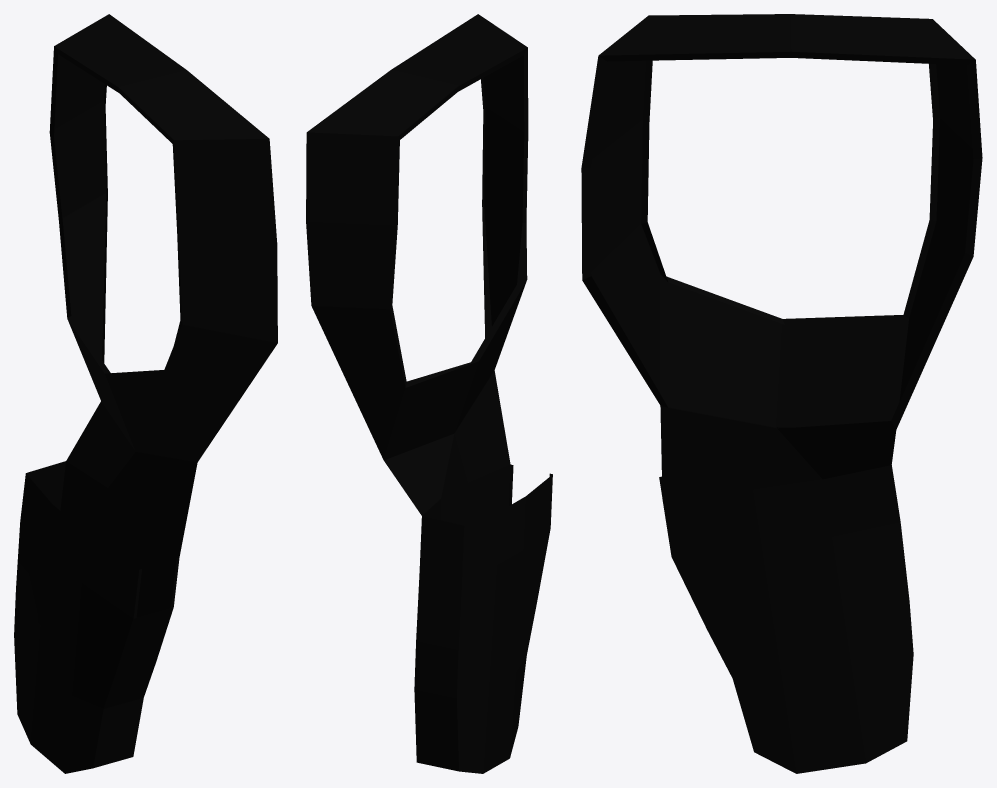
File: Weapon Holster Left Right.fbx
The picture shows the model from 3 angles, left to right: view 1: azimuth 30°, elevation 25°; view 2: azimuth 150°, elevation 25°; view 3: azimuth 270°, elevation 25°; orthographic projection. The views are drawn at different scales.
Visible parts, largest first — view 1: Dual Weapon Holster Right Arm.001; view 2: Dual Weapon Holster Right Arm.001; view 3: Dual Weapon Holster Right Arm.001.
Part boxes in pixels (bbox=[...]): Dual Weapon Holster Right Arm.001: bbox=[14, 14, 277, 773]; Dual Weapon Holster Right Arm.001: bbox=[306, 14, 552, 773]; Dual Weapon Holster Right Arm.001: bbox=[581, 14, 982, 773].
Size of the model in its own units: 0.0864 by 0.4301 by 0.2063.
